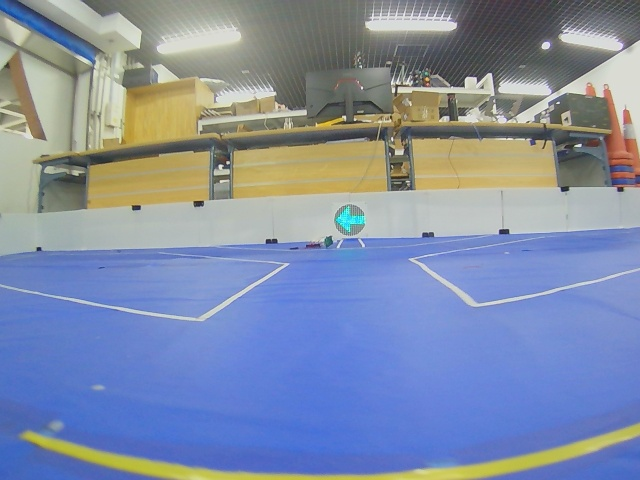left_green: (334, 204, 366, 236)
